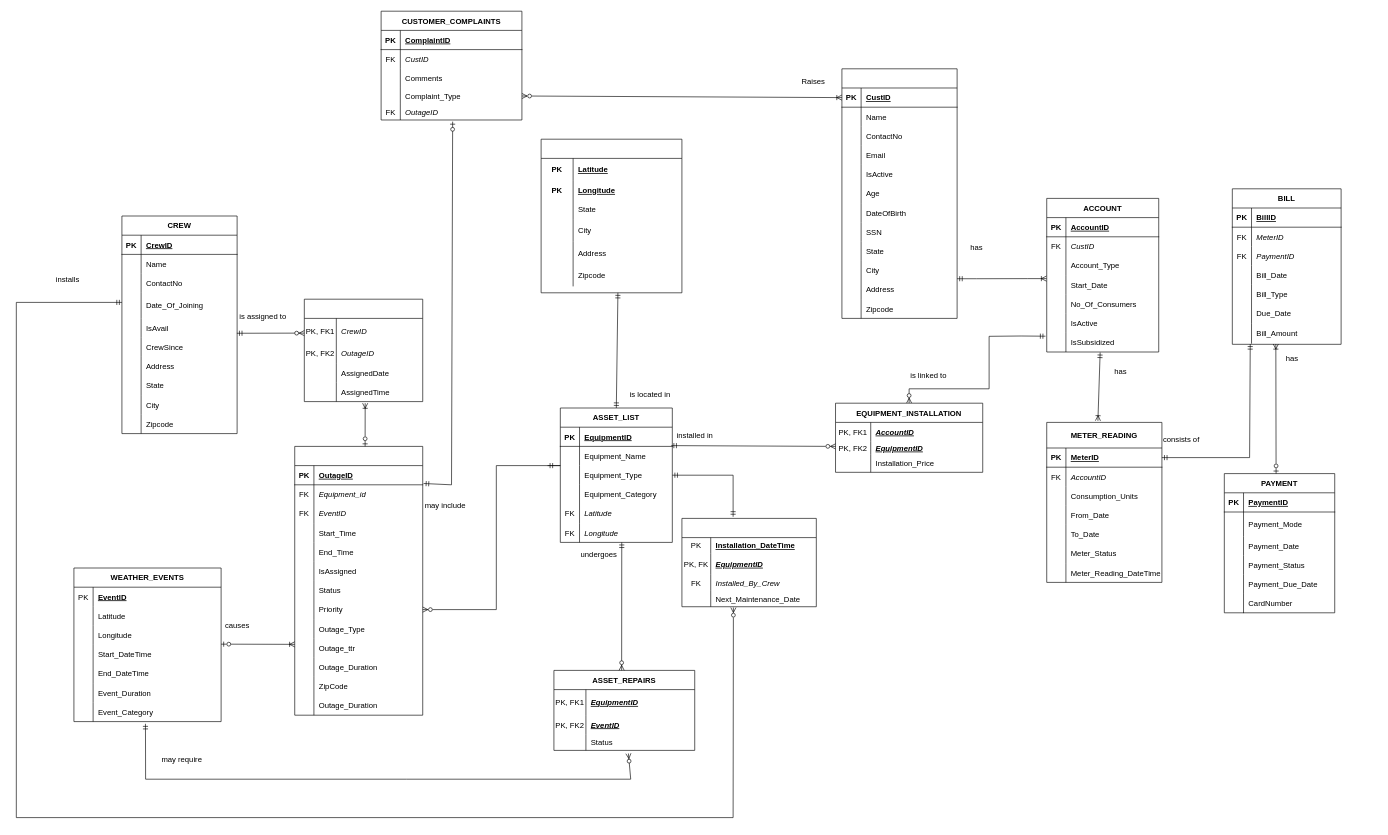
This 1388x835 diagram has some shape labels left out. Each missing label, with the box of its shape:
ASSET_INSTALLATION: (681, 518, 816, 607)
ASSET_LOCATION: (540, 139, 682, 293)
CREW_ASSIGNMENTS: (304, 299, 423, 402)
CUSTOMER: (841, 68, 957, 318)
OUTAGES: (294, 446, 423, 715)
